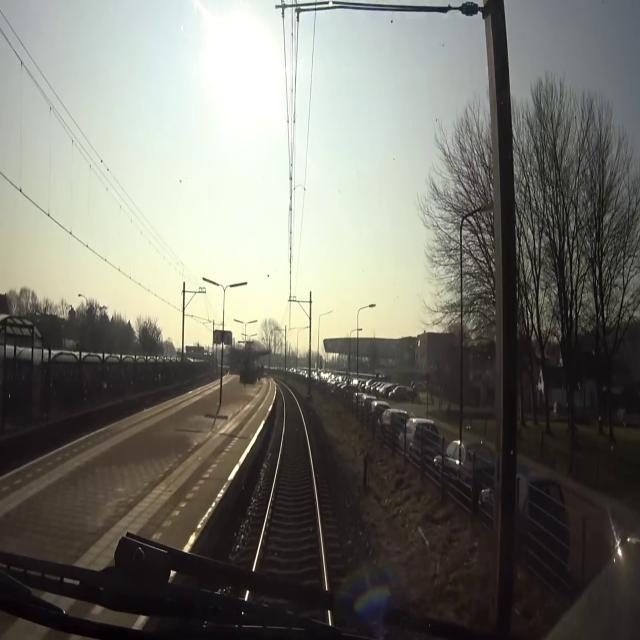rail-track: (256, 387, 324, 592)
